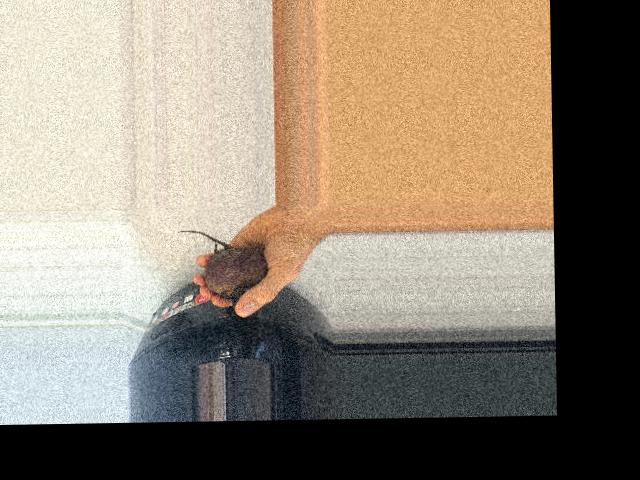beet: (177, 228, 267, 306)
